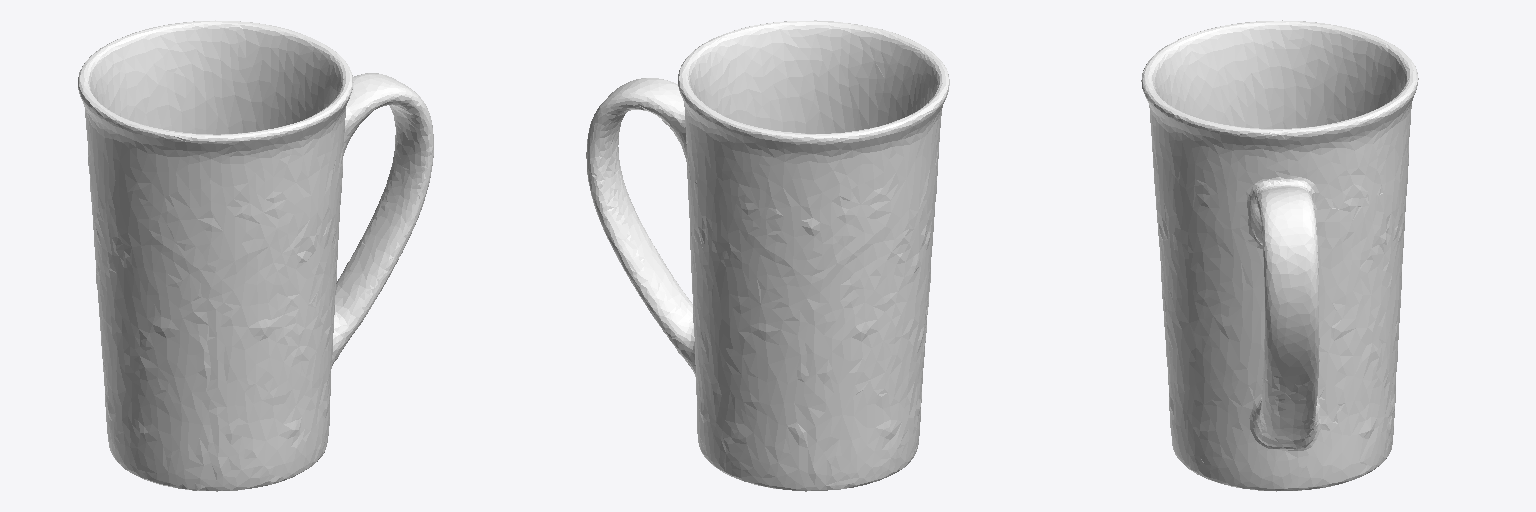
The robot description file, URDF, robot "ACE_Coffee_Mug_Kristen_16_oz_cup":
<?xml version='1.0' ?>
<robot name="ACE_Coffee_Mug_Kristen_16_oz_cup">
    <link name="base_link">
        <visual>
            <origin rpy="0 0 0" xyz="0 0 0"/>
            <geometry>
                <mesh filename="meshes/model.obj" scale="1.0 1.0 1.0"/>
            </geometry>
            <material name="texture">
                <color rgba="1.0 1.0 1.0 1.0" />
            </material>
        </visual>
        <collision>
            <origin rpy="0 0 0" xyz="0 0 0"/>
            <geometry>
                <mesh filename="meshes/model.obj" scale="1.0 1.0 1.0"/>
            </geometry>
        </collision>   
        <inertial>
            <mass value="1.0"/>
            <inertia ixx="1.0" ixy="0.0" ixz="0.0" iyy="1.0" iyz="0.0" izz="1.0" />
        </inertial>
    </link>
</robot>

--- Render facts (derived) ---
3 views of the same robot in one strip: view 1: azimuth 30°, elevation 25°; view 2: azimuth 150°, elevation 25°; view 3: azimuth 270°, elevation 25° (orthographic).
Model ACE_Coffee_Mug_Kristen_16_oz_cup with 1 links and 0 joints (none), rooted at base_link, posed every joint at zero.
Links seen in each view (by area): view 1: base_link; view 2: base_link; view 3: base_link.
Link boxes in pixels (x1,y1,x2,y2): base_link: (78,20,433,491); base_link: (586,20,949,491); base_link: (1141,20,1418,491).
Bounding box of the posed robot: 0.1263 × 0.0906 × 0.1349 m (x, y, z).
1 mesh visuals loaded from 1 distinct referenced files (1 OBJ).
